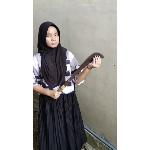Golok: (57, 50, 106, 92)
